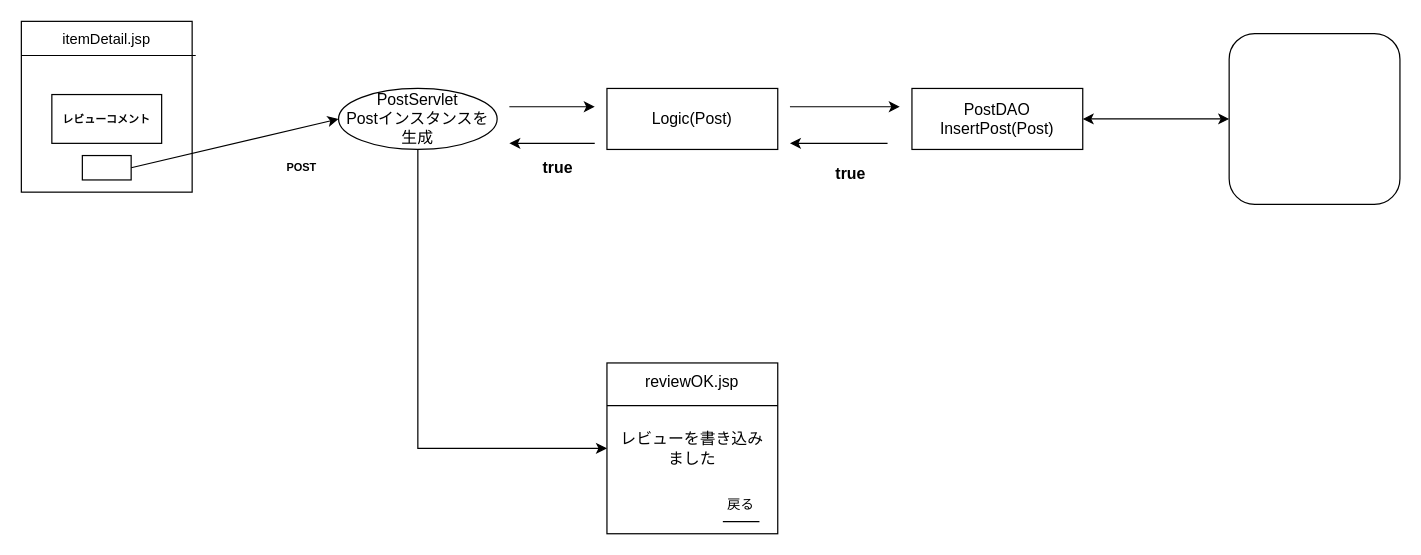
This 1421x555 diagram has some shape labels left out. Here are the shapes that lost their labels. From the top down, the centre of each, then its label:
At [1314,118]: "テーブル".
At [106,167]: "送信".
